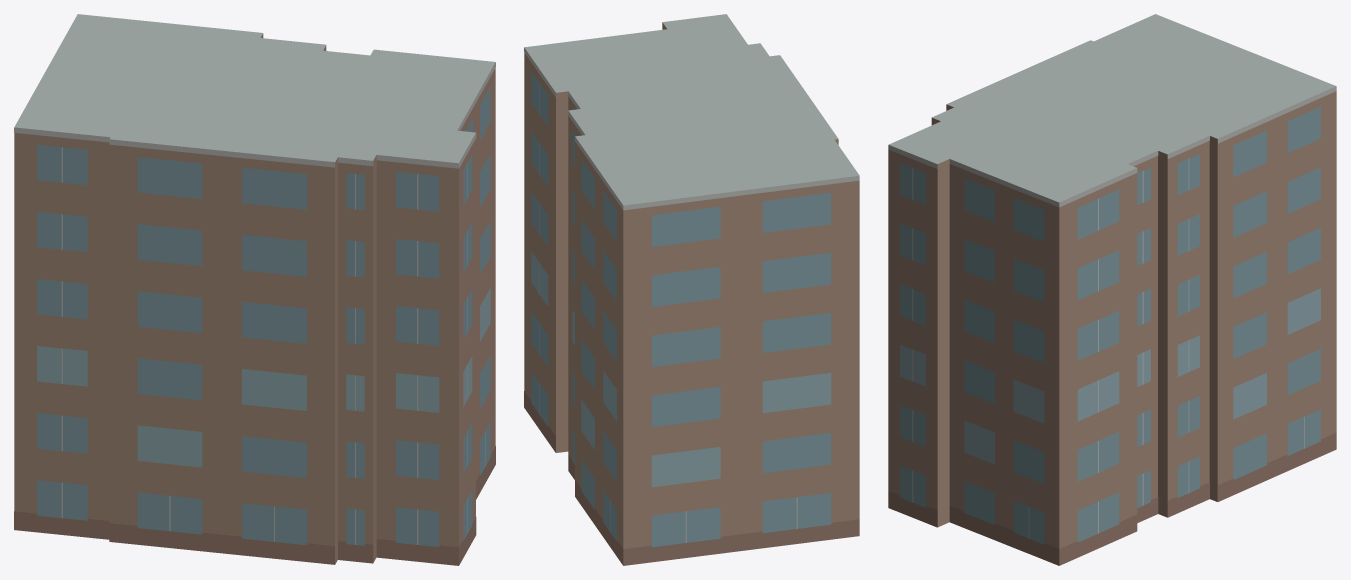
The model's file is survey-upis-32961031.glb.
3 renders of one model, left to right at view 1: azimuth 30°, elevation 25°; view 2: azimuth 150°, elevation 25°; view 3: azimuth 270°, elevation 25°, orthographic. The views are drawn at different scales.
Parts seen in each view (by area): view 1: survey-upis-32961031.tmp; view 2: survey-upis-32961031.tmp; view 3: survey-upis-32961031.tmp.
Part boxes in pixels (box(x1,y1,x2,y2)): survey-upis-32961031.tmp: box(14, 14, 495, 565); survey-upis-32961031.tmp: box(524, 14, 859, 565); survey-upis-32961031.tmp: box(888, 14, 1336, 565).
Bounding box in the file's own units: 20.38 × 18.3 × 20.46.
